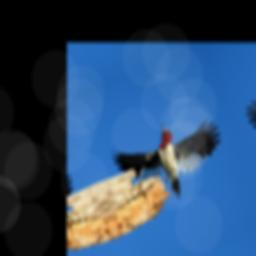Woodpecker: (107, 104, 236, 219)
